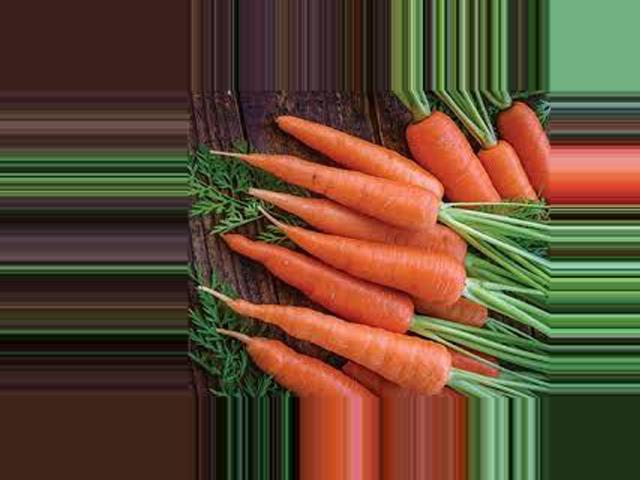carrot: (204, 314, 472, 392)
